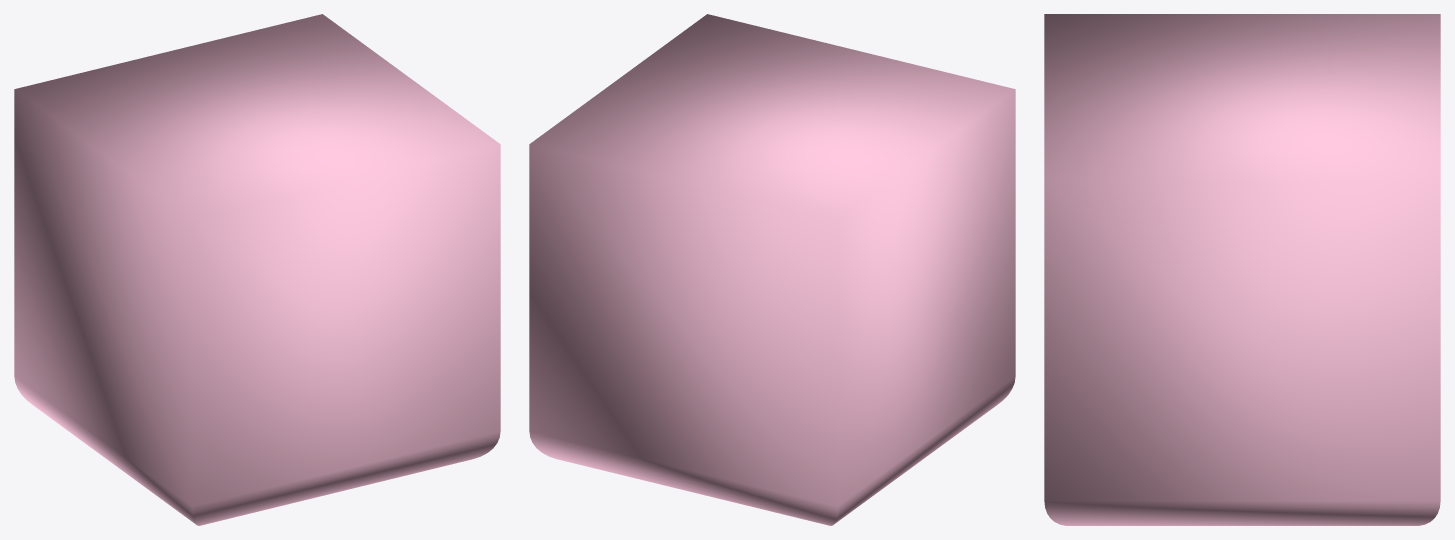
Rendered from eyeroll.glb.
The picture shows the model from 3 angles, left to right: view 1: azimuth 30°, elevation 25°; view 2: azimuth 150°, elevation 25°; view 3: azimuth 270°, elevation 25°; orthographic projection. The views are drawn at different scales.
Parts seen in each view (by area): view 1: Cube.002; view 2: Cube.002; view 3: Cube.002.
Part boxes in pixels (x1=…): Cube.002: x1=14, y1=14, x2=500, y2=525; Cube.002: x1=529, y1=14, x2=1015, y2=525; Cube.002: x1=1044, y1=14, x2=1440, y2=525.
Size of the model in its own units: 55.55 by 55.55 by 55.55.
